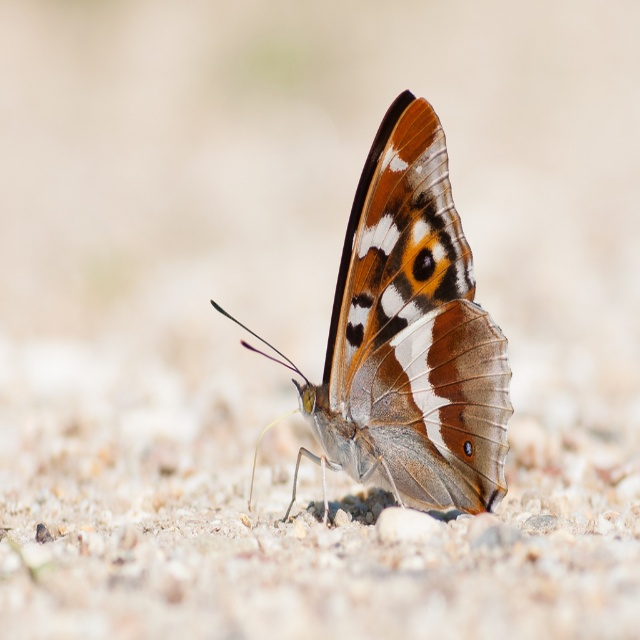Butterfly: (210, 87, 516, 544)
